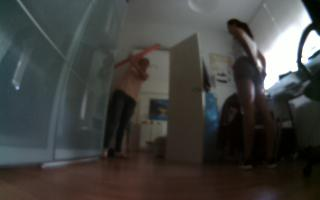person: (223, 14, 283, 173), (96, 46, 150, 157)
